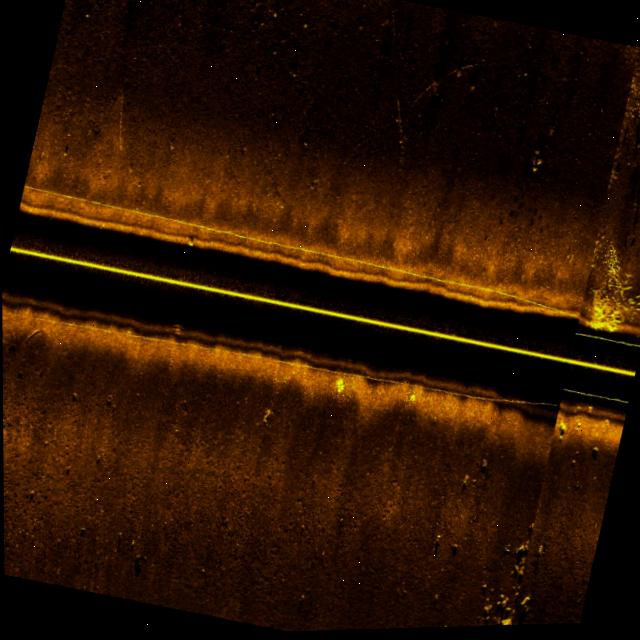mine: (183, 237, 195, 250)
other: (527, 148, 546, 181), (256, 403, 277, 429)
